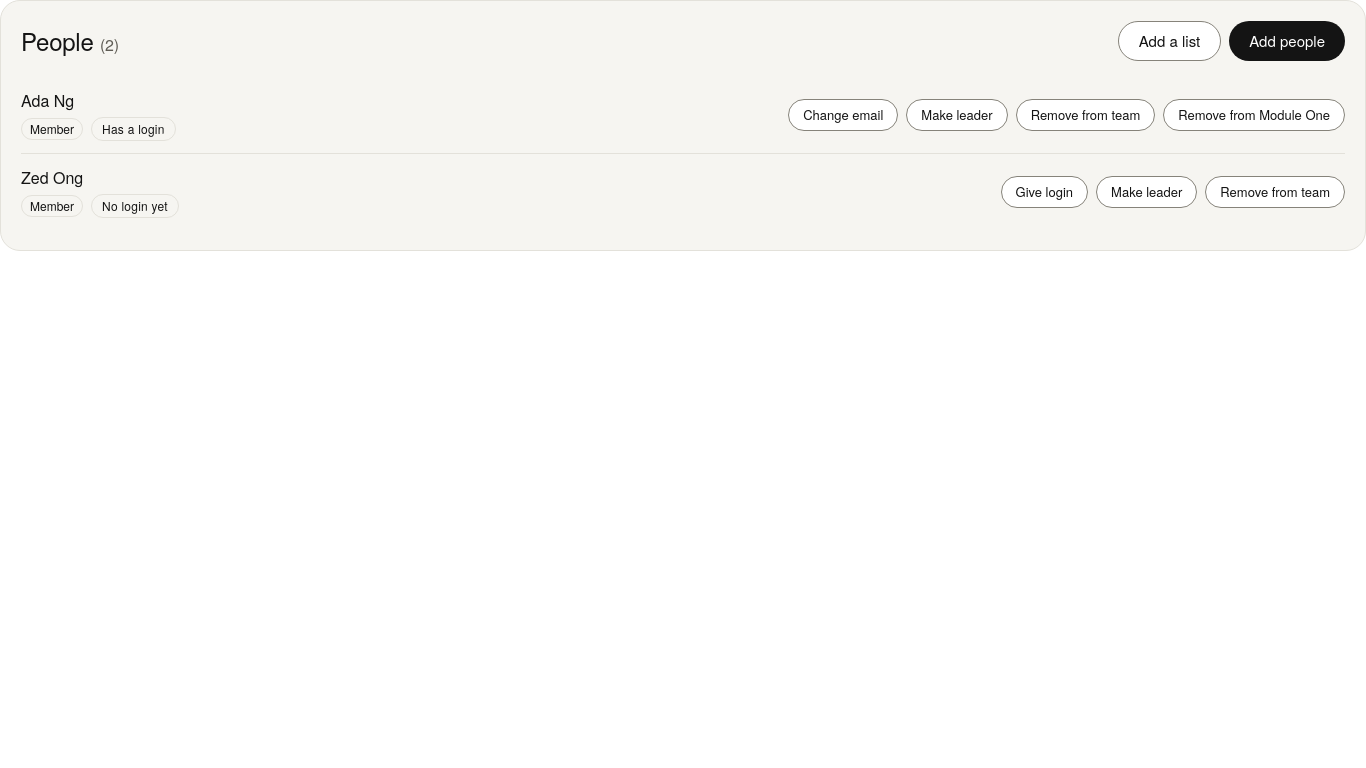
Test case: PeopleSection: Remove from Module One › asks first, saying what stays, then puts focus on the People heading once their row goes
Click the button "Remove from Module One". click: (1254, 115)
box: [1163,99,1345,131]
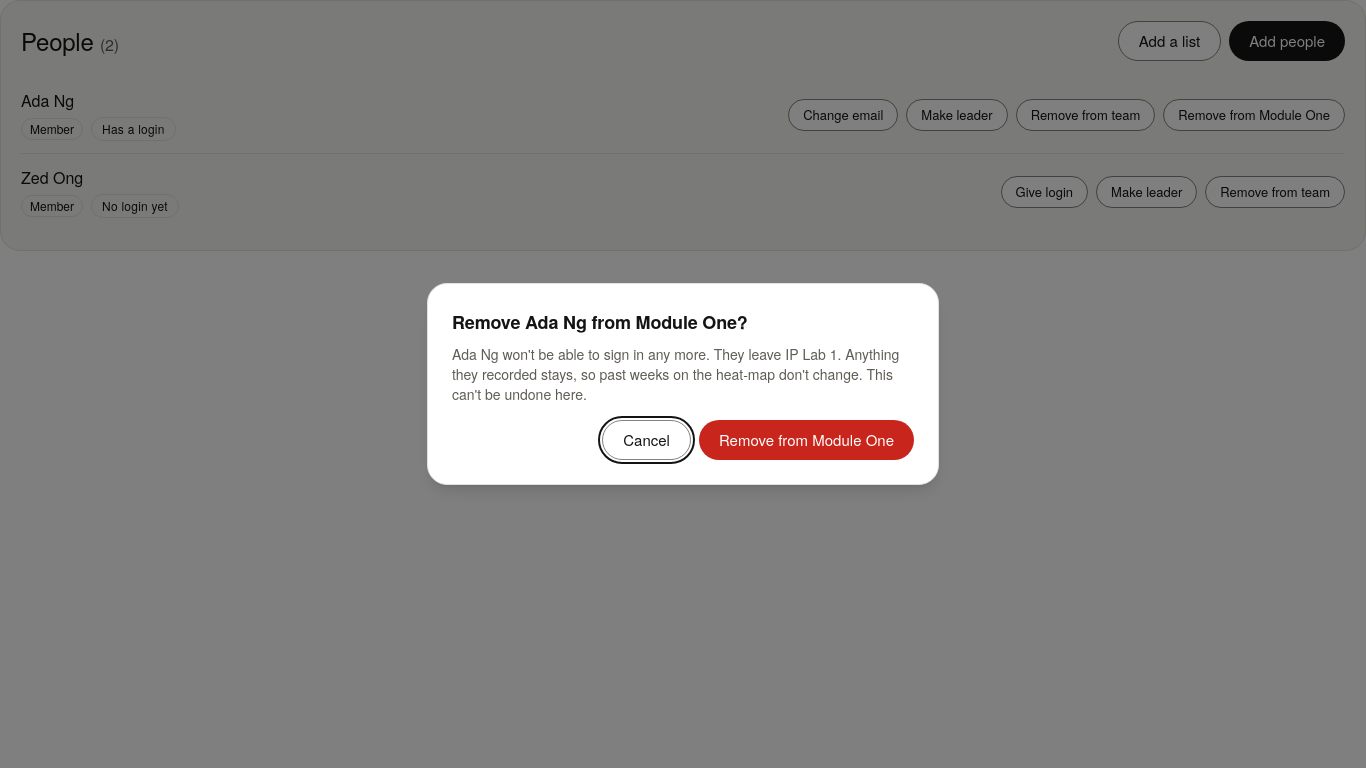
Expected: the heading "Remove Ada Ng from Module One?" is shown, [452,309,748,335]
Click the button "Remove from Module One". click: (806, 440)
box: [699,420,914,460]
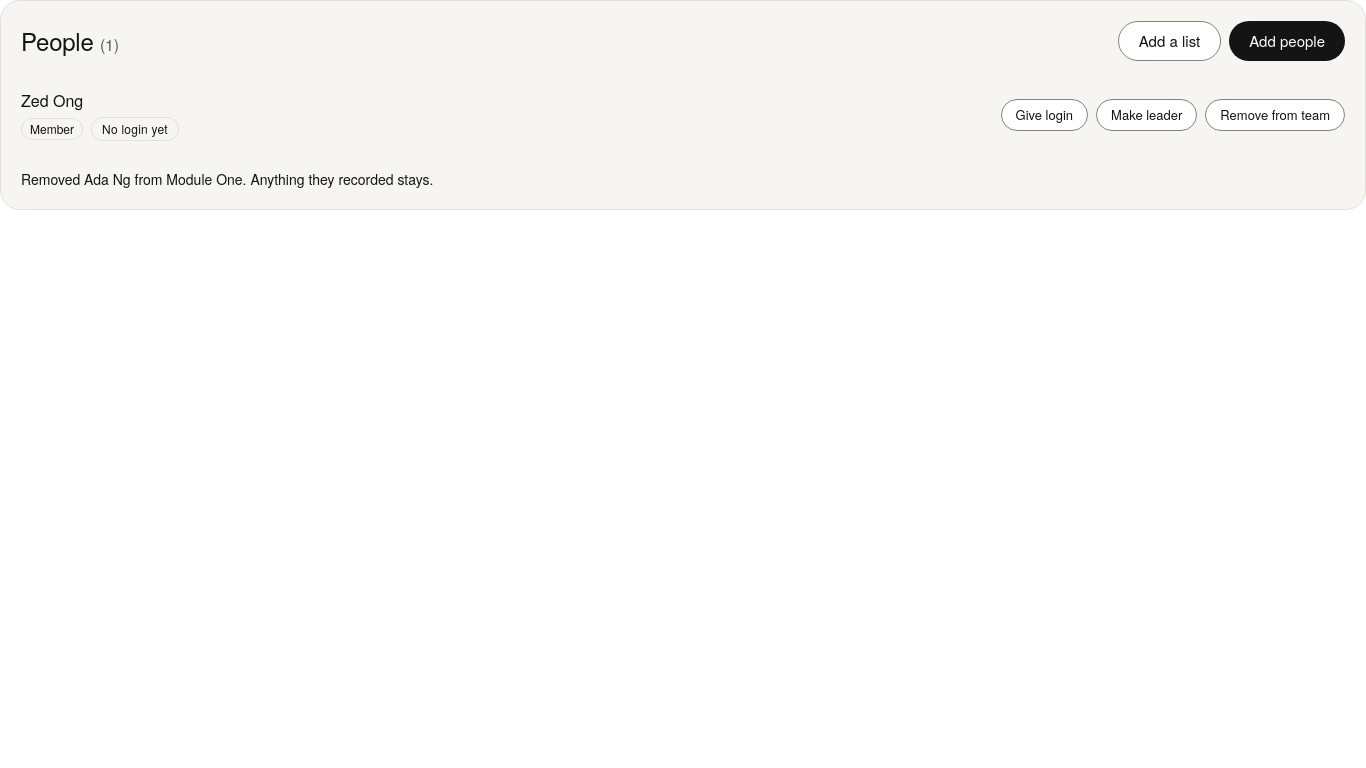
Expected: the dialog is gone
Expected: the heading "People (1)" is shown, [21,25,119,57]
Expected: the message "Removed Ada Ng from Module One. Anything they recorded stays." is shown, [21,169,433,189]
